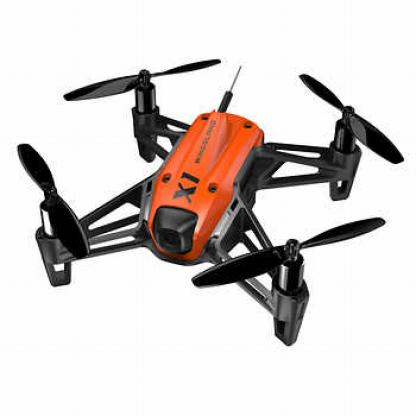drone: (4, 52, 408, 351)
